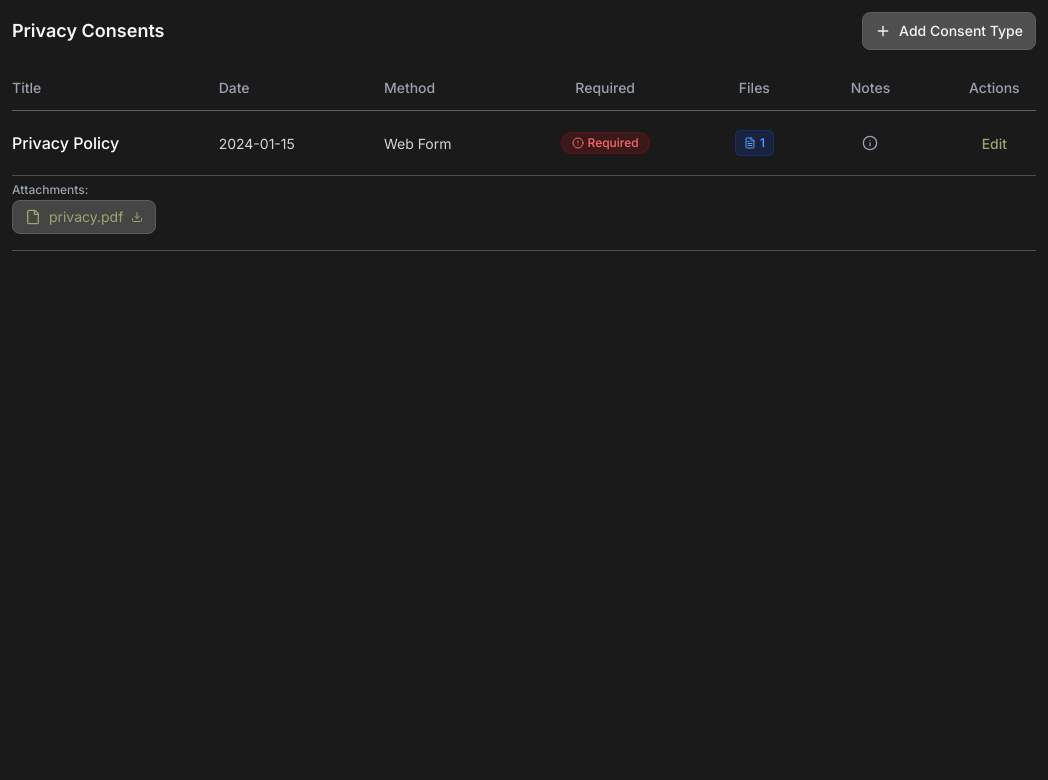
Test: UserConsents › enters edit mode when clicking edit button
The image size is (1048, 780).
expect the text "Privacy Policy" is shown: met, box x1=12 y1=133 x2=119 y2=153
Step 1. Click the button "Edit" → click(994, 144), box x1=982 y1=134 x2=1007 y2=154
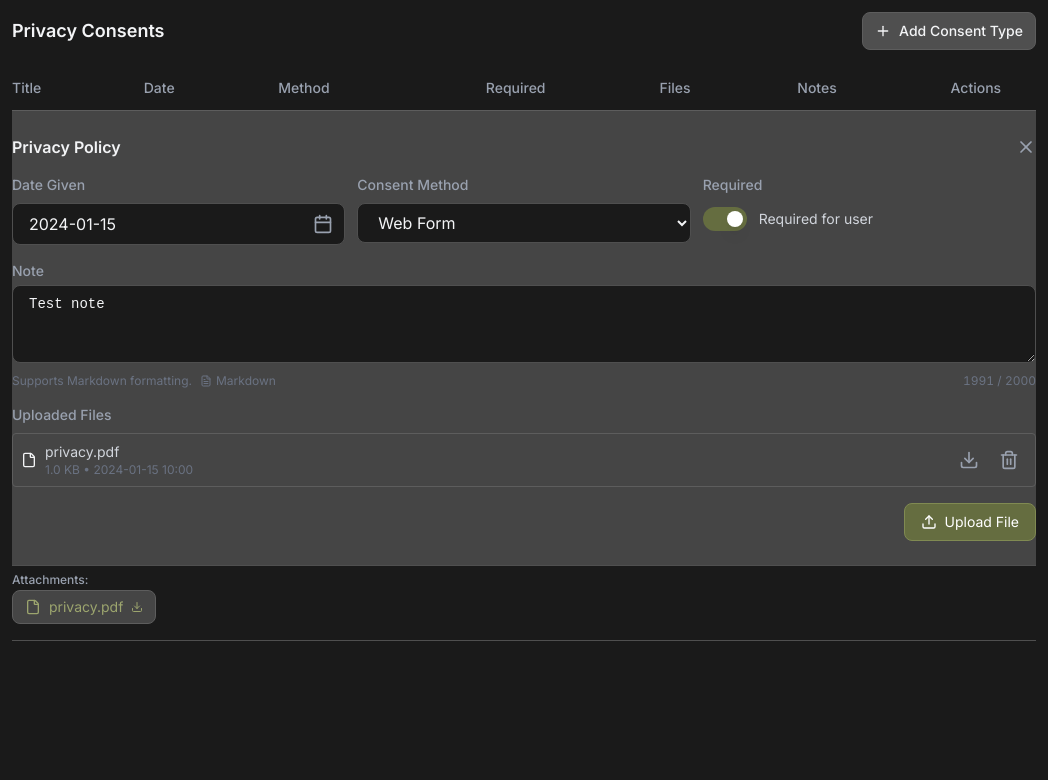
expect the text "Date Given" is shown: met, box x1=12 y1=176 x2=85 y2=193
